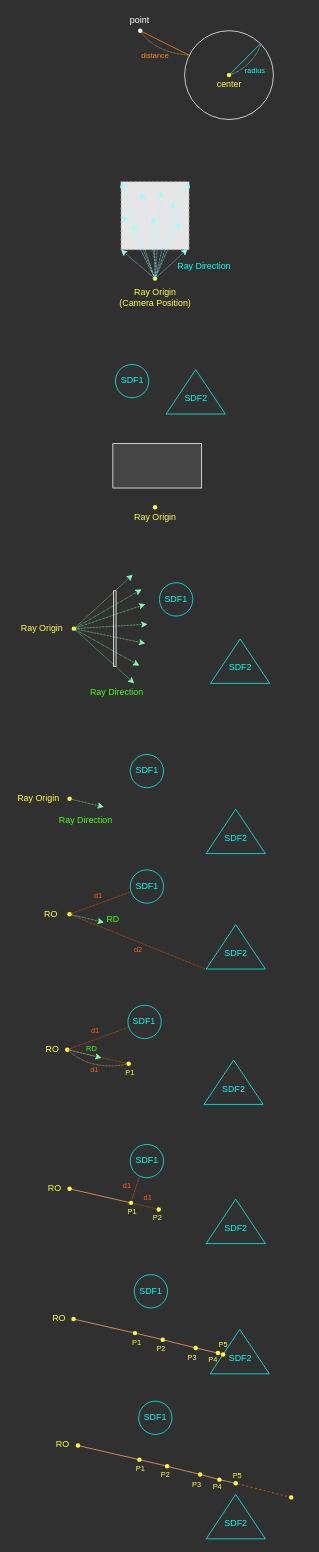
The diagram is 319 pixels wide and 1552 high, and some of its shapes have lost their labels. Grey dashed boxes stand in for pictures. The shapes that lost their labels are listed below. From the top down, each one's box as (x1, y1, x2, y2) in pixels, then its label:
(112, 443, 202, 488): Screen Positions
(276, 1482, 306, 1512): P100
